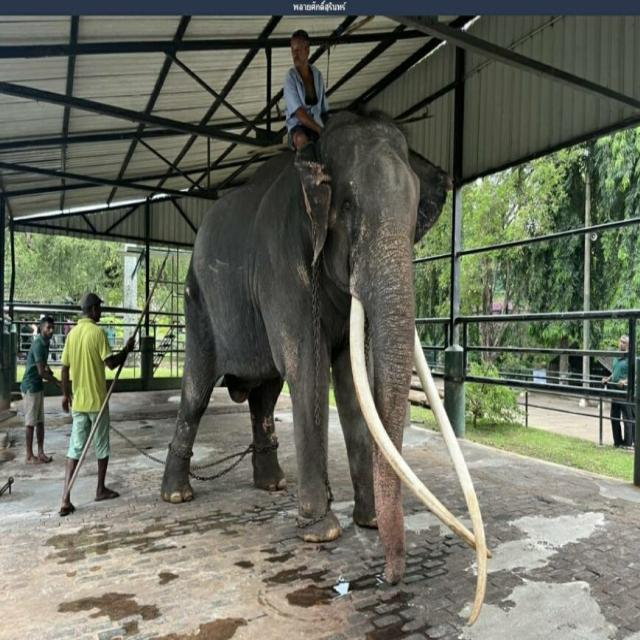Elephant: (157, 95, 505, 630)
person: (58, 290, 134, 514), (282, 28, 330, 157), (22, 313, 56, 469)
